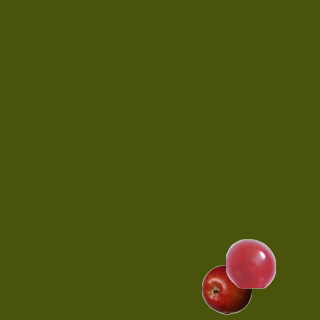Apple Braeburn: (201, 264, 251, 314)
Redcurrant: (225, 238, 275, 288)
